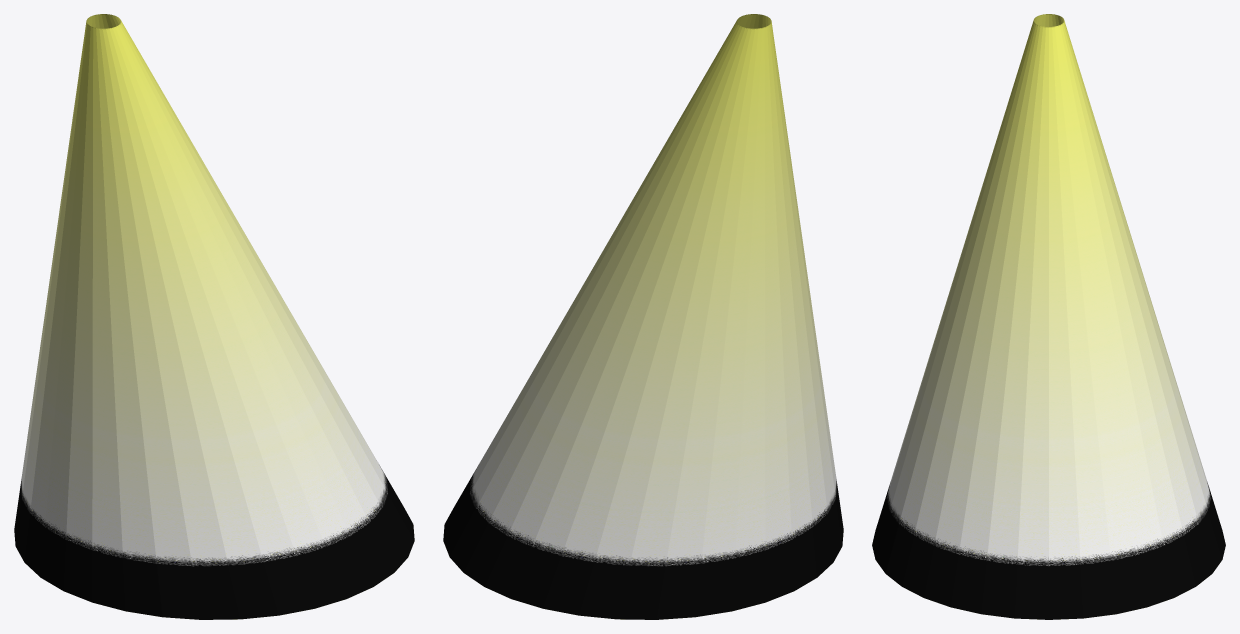
The model's file is god ray.fbx.
The picture shows the model from 3 angles, left to right: view 1: azimuth 30°, elevation 25°; view 2: azimuth 150°, elevation 25°; view 3: azimuth 270°, elevation 25°; orthographic projection. The views are drawn at different scales.
Parts seen in each view (by area): view 1: Cylinder; view 2: Cylinder; view 3: Cylinder.
Part boxes in pixels (x1,y1,x2,y2): Cylinder: (14, 14, 414, 619); Cylinder: (443, 14, 843, 619); Cylinder: (872, 14, 1225, 619).
Bounding box in the file's own units: 137 × 203 × 137.
